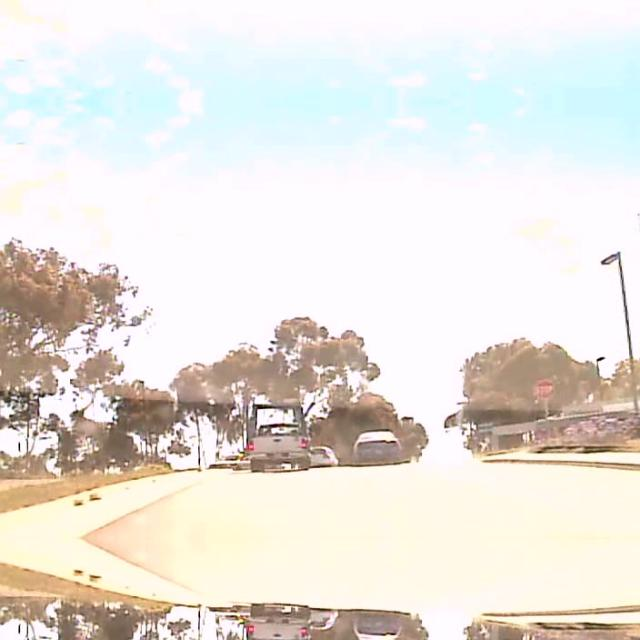stop: (534, 378, 554, 397)
